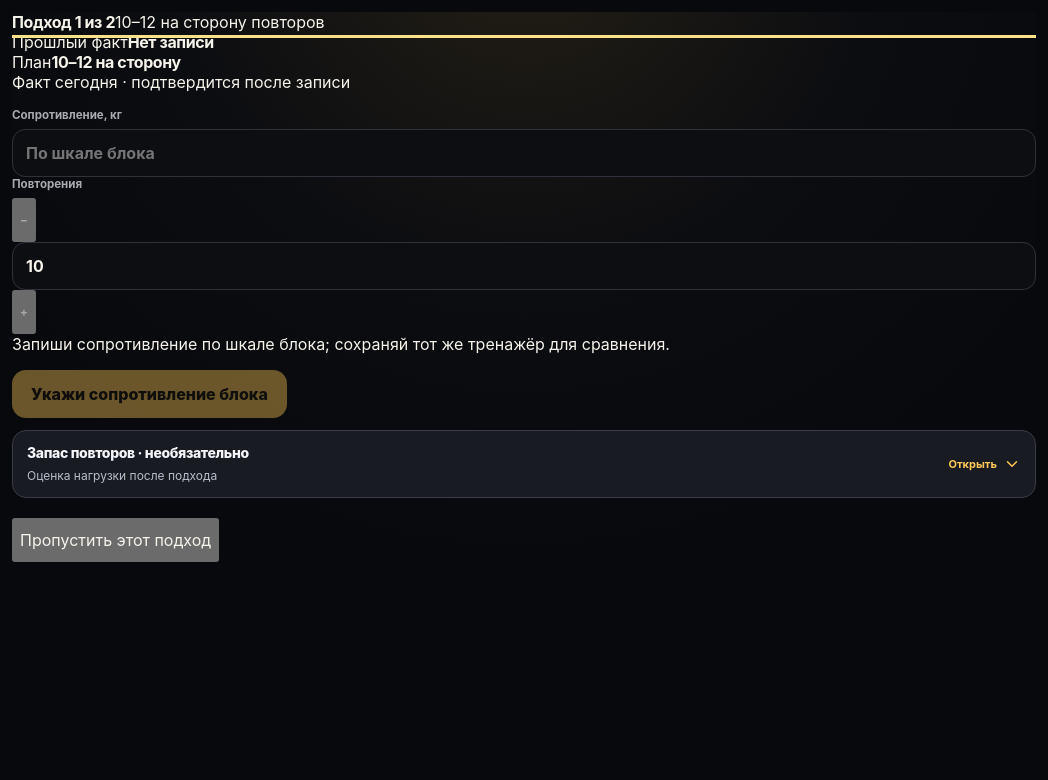
Test case: rejects zero cable resistance without inventing a completed set
The image size is (1048, 780).
Type "0" into the number field named "вес кг" at {"x": 524, "y": 153}, box [12, 129, 1036, 177]
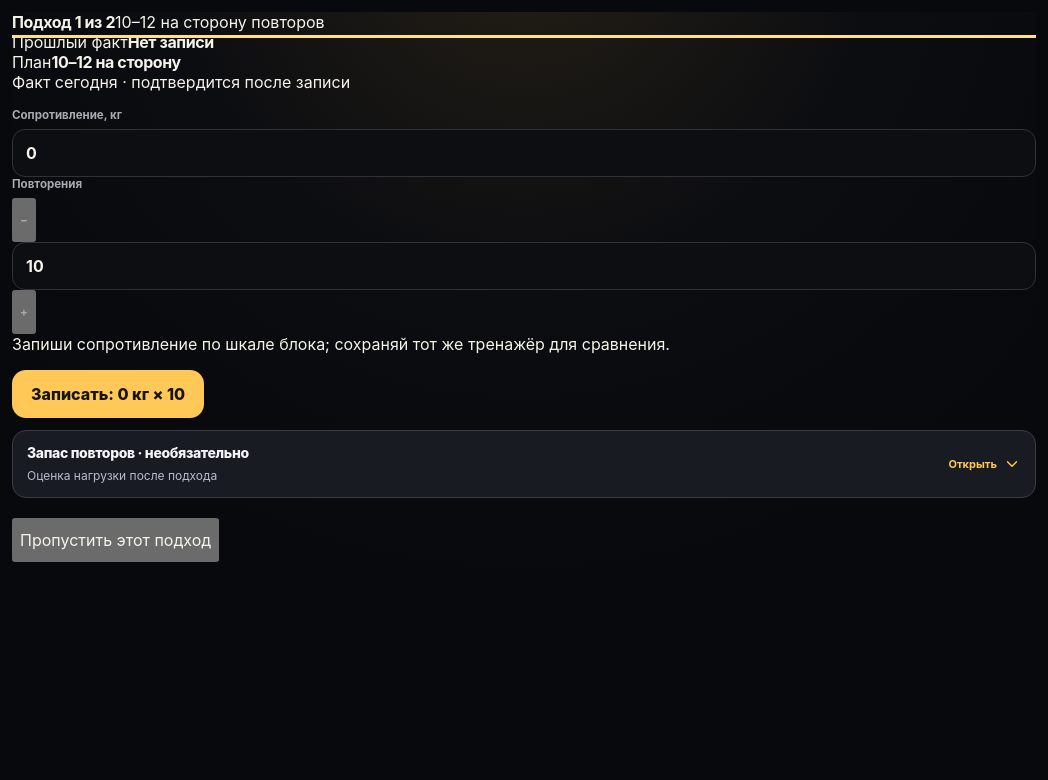
Click the button with aria-label "Записать подход 1 · Тест" at {"x": 108, "y": 394}, box [12, 370, 204, 418]
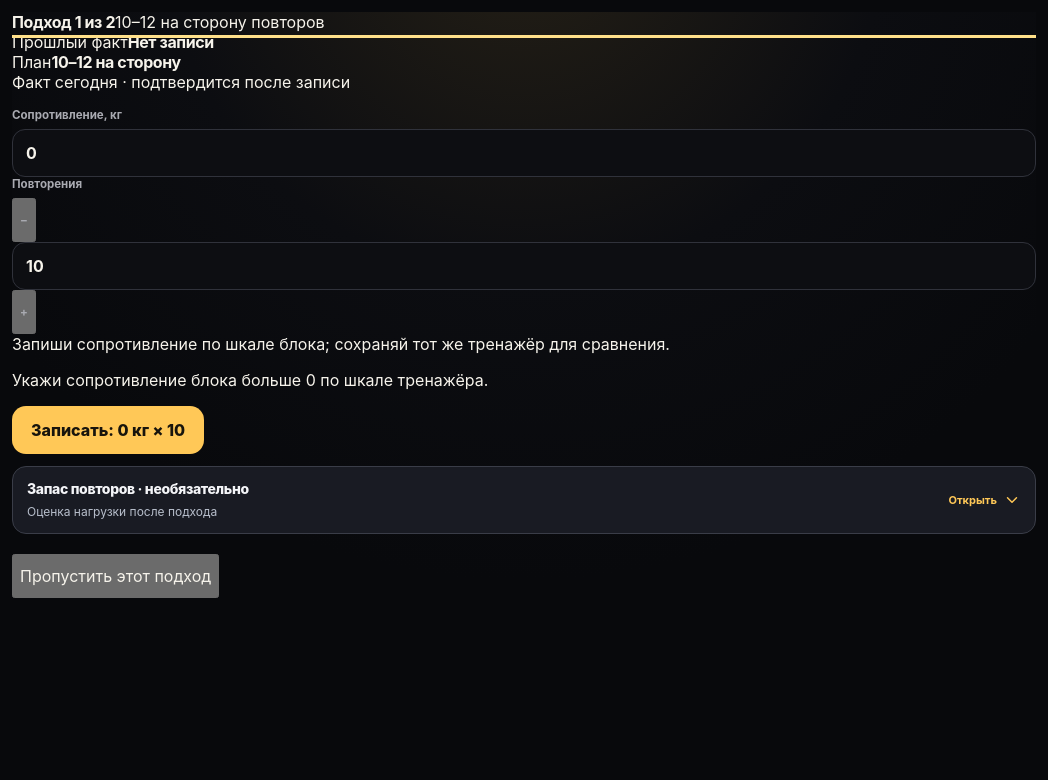
Check: the message shows "больше 0", box [12, 370, 488, 390]
